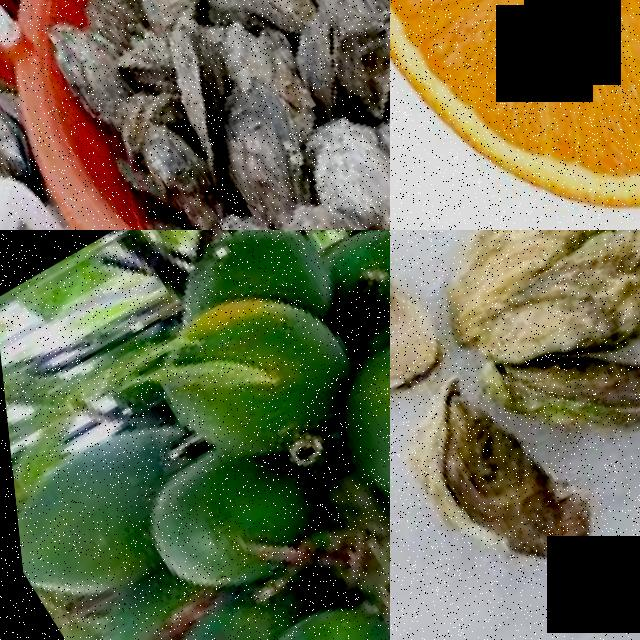orange: (390, 0, 640, 230)
oysters: (390, 365, 586, 604), (447, 230, 640, 404), (390, 230, 640, 332), (390, 230, 457, 439)
pawpaw: (111, 423, 331, 618), (4, 438, 160, 622), (303, 301, 390, 539), (223, 586, 390, 640)
